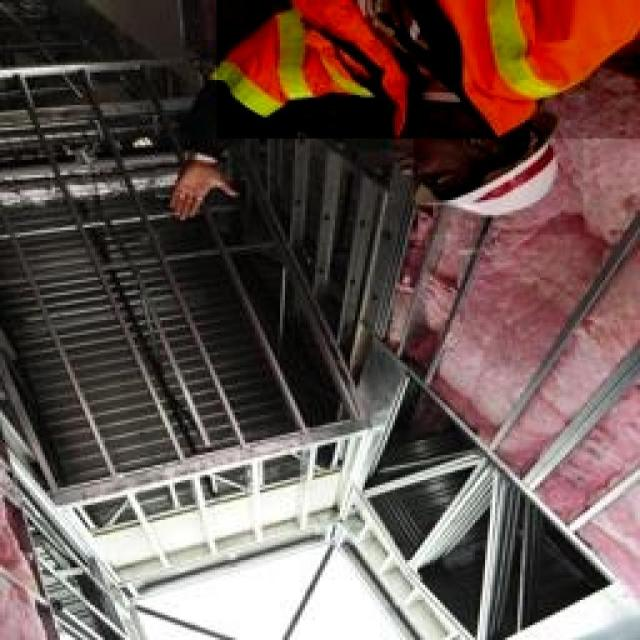Helmet: (216, 0, 640, 139), (414, 123, 584, 234)
